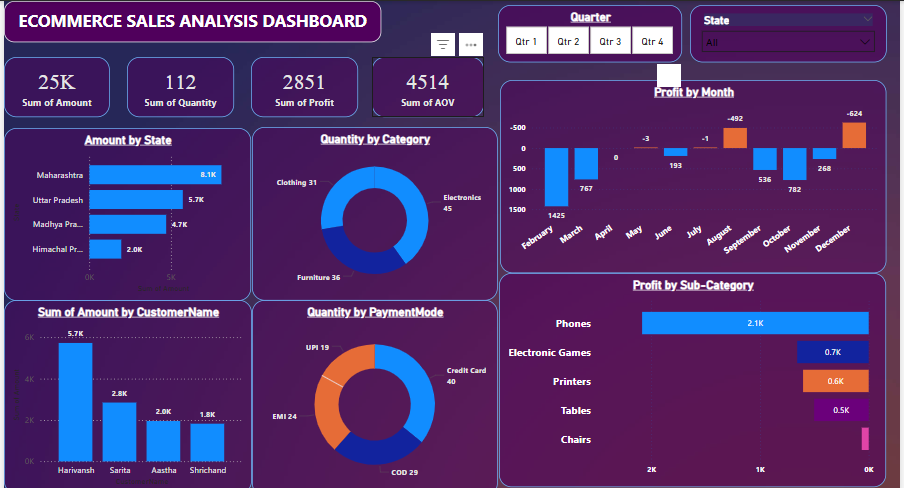

What the dashboard file says about the page in this screenshot:
{"tool":"powerbi","page":{"name":"Page 1","canvas":[1280,720],"ordinal":0},"visuals":[{"type":"textbox","box":[0,0,539.3,58.8],"z":0},{"type":"columnChart","title":" Profit by Month","fields":{"Category":["Orders.Order Date.Variation.Date Hierarchy.Month"],"Y":["Details.Profit"]},"box":[708.2,113.1,552.5,276.2],"z":1000},{"type":"barChart","title":"Profit by Sub-Category","fields":{"Category":["Details.Sub-Category"],"Y":["Details.Profit"],"Series":["Details.Sub-Category"]},"box":[707.5,389.1,553.2,305.5],"z":2000},{"type":"donutChart","title":" Quantity by Category","fields":{"Category":["Details.Category"],"Y":["Details.Quantity"]},"box":[353.8,180.1,350.6,247.6],"z":3000},{"type":"donutChart","title":"Quantity by PaymentMode","fields":{"Category":["Details.PaymentMode"],"Y":["Details.Quantity"]},"box":[353.8,427.7,350.6,279.8],"z":4000},{"type":"card","fields":{"Values":["Details.Amount"]},"box":[0,80.6,151.2,85.7],"z":5000},{"type":"card","fields":{"Values":["Details.Quantity"]},"box":[176.4,80.6,152.9,85.7],"z":6000},{"type":"card","fields":{"Values":["Details.Profit"]},"box":[352.8,80.6,152.9,85.7],"z":7000},{"type":"card","fields":{"Values":["Details.AOV"]},"box":[525.8,80.6,159.6,85.7],"z":8000},{"type":"barChart","title":" Amount by State","fields":{"Category":["Orders.State"],"Y":["Details.Amount"]},"box":[0,181.4,352.8,246.9],"z":9000},{"type":"columnChart","fields":{"Category":["Orders.CustomerName"],"Y":["Details.Amount"]},"box":[0,427.7,353.8,276.6],"z":10000},{"type":"slicer","fields":{"Values":["Orders.State"]},"box":[980.1,5.9,280.7,82.3],"z":11000},{"type":"advancedSlicerVisual","fields":{"Values":["Orders.Order Date.Variation.Date Hierarchy.Quarter"]},"box":[705.3,5.9,263,82.3],"z":12000}]}

Visuals, with their boxes on the page's 1280x720 design canvas (x1, y1, x2, y2). These are canvas units, not pixel positions in the 904x488 screenshot, which may show the page scaled, cropped or inside an application window:
textbox: box(0, 0, 539, 59)
" Profit by Month" columnChart: box(708, 113, 1261, 389)
"Profit by Sub-Category" barChart: box(708, 389, 1261, 695)
" Quantity by Category" donutChart: box(354, 180, 704, 428)
"Quantity by PaymentMode" donutChart: box(354, 428, 704, 708)
card - Details.Amount: box(0, 81, 151, 166)
card - Details.Quantity: box(176, 81, 329, 166)
card - Details.Profit: box(353, 81, 506, 166)
card - Details.AOV: box(526, 81, 685, 166)
" Amount by State" barChart: box(0, 181, 353, 428)
columnChart - Orders.CustomerName x Details.Amount: box(0, 428, 354, 704)
slicer - Orders.State: box(980, 6, 1261, 88)
advancedSlicerVisual - Orders.Order Date.Variation.Date Hierarchy.Quarter: box(705, 6, 968, 88)
